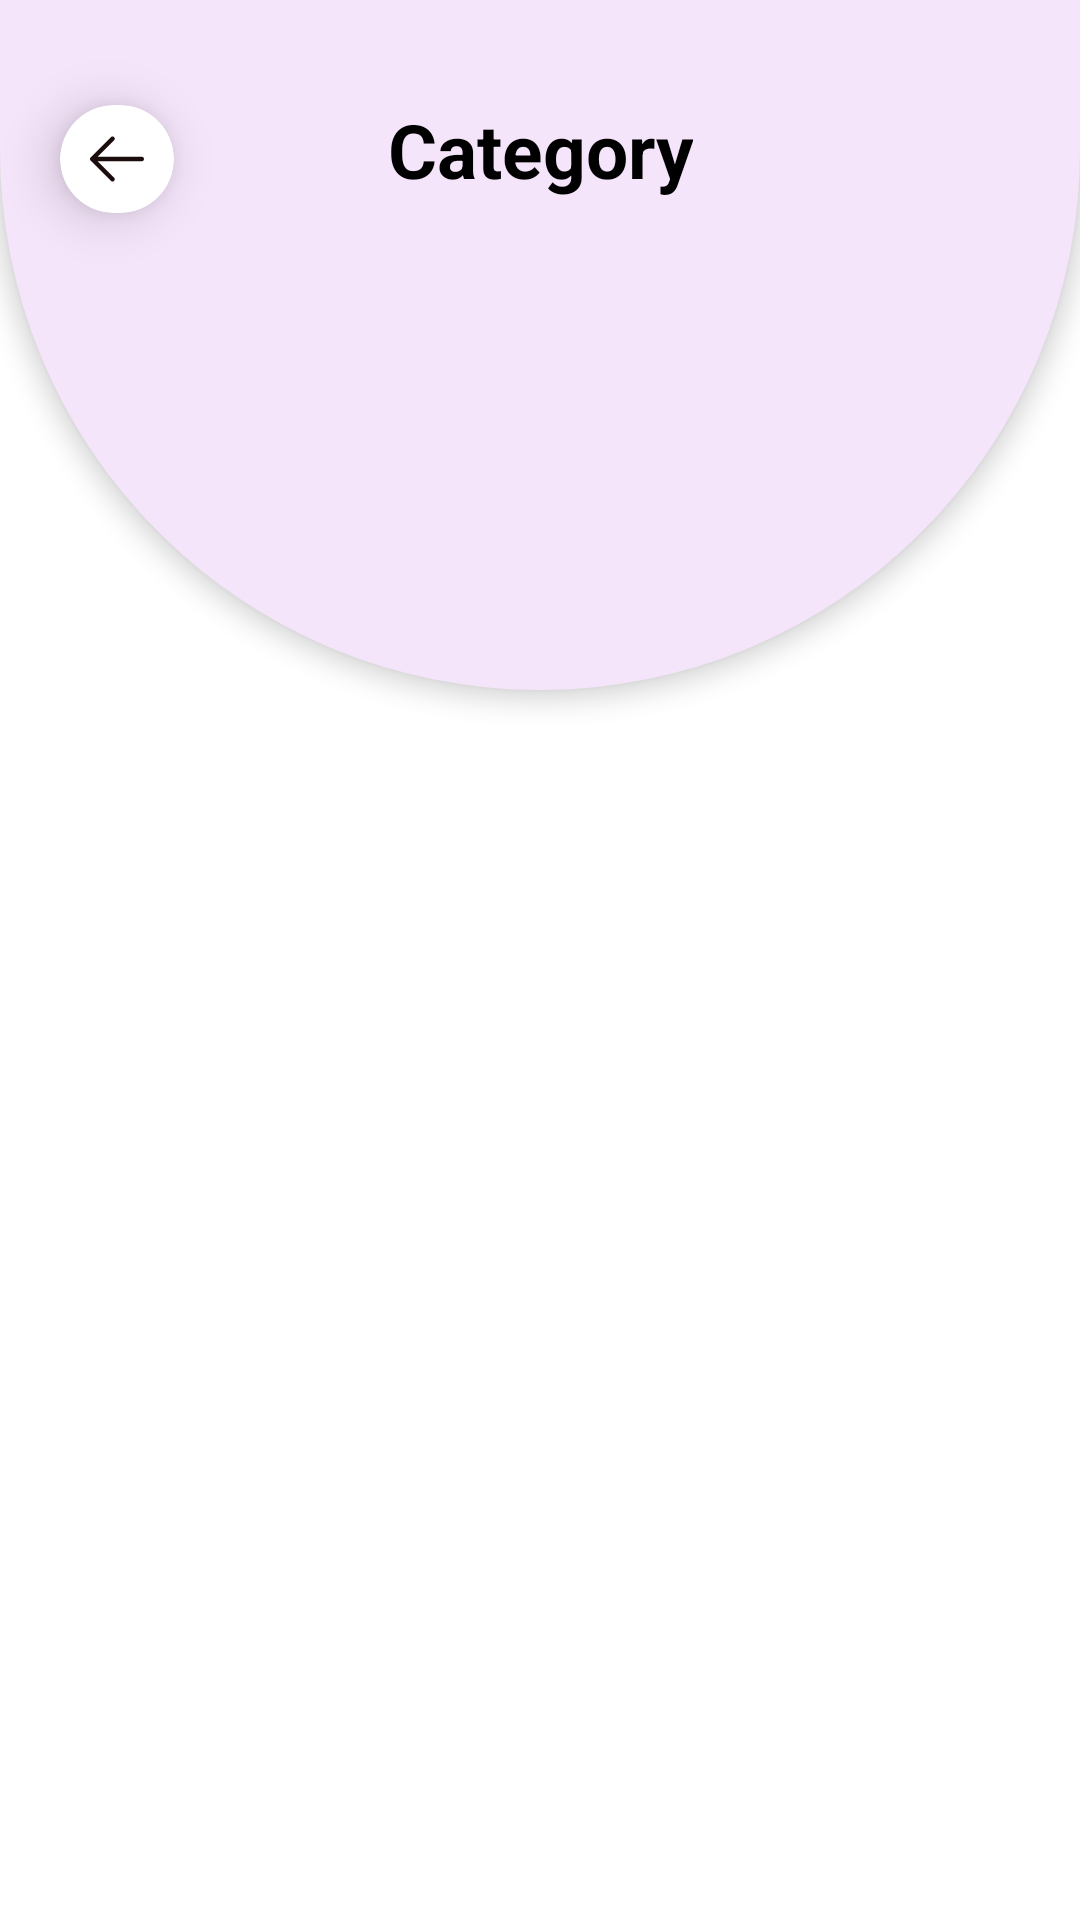

Screen size 1080px×1920px. Icon name, then its box in pixels as Rect(x1, y1, x2, y2):
back: Rect(90, 136, 144, 182)
